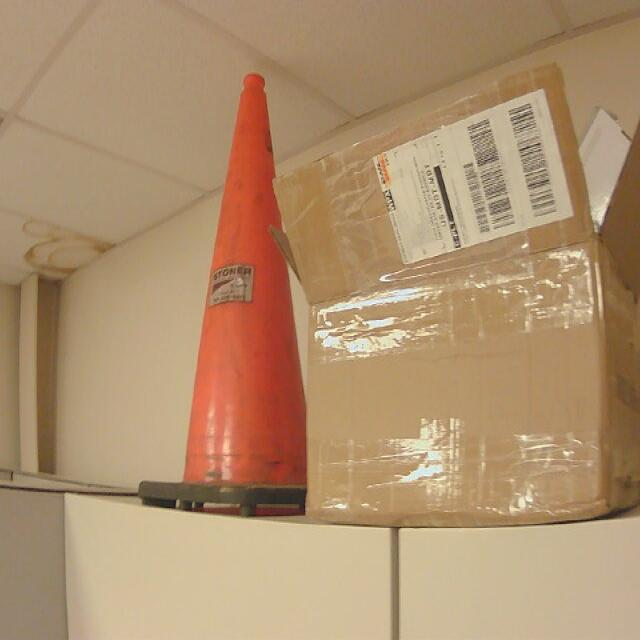traffic cone: (139, 74, 308, 522)
